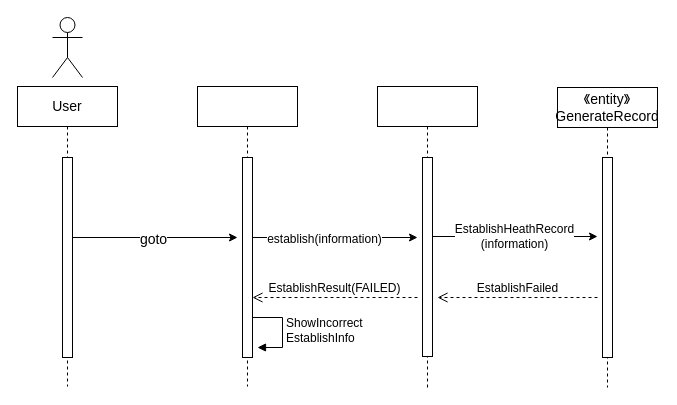
This 677x405 diagram has some shape labels left out. The box of each missing label's shape, as (x1, y1, x2, y2) in pixels:
《boundary》 EstablishUI: (196, 86, 298, 386)
《controller》Establish Manager: (376, 86, 478, 388)
